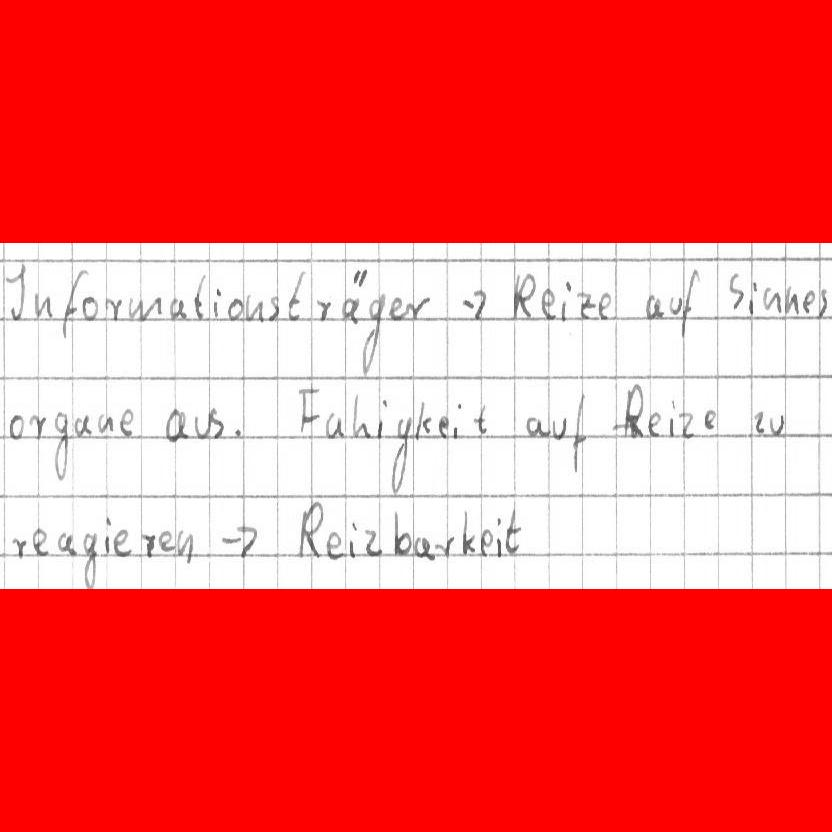Char: (360, 291, 386, 377), (387, 415, 413, 496), (611, 382, 645, 438), (297, 498, 324, 559), (571, 391, 590, 476), (60, 267, 82, 339), (340, 267, 367, 325), (679, 267, 701, 338), (2, 260, 27, 322), (219, 524, 258, 561), (510, 272, 538, 319), (51, 409, 69, 482), (298, 385, 320, 435), (81, 530, 99, 591), (287, 269, 307, 321), (349, 393, 371, 437), (164, 406, 190, 443), (392, 508, 411, 557), (128, 295, 162, 322), (751, 408, 785, 435), (461, 287, 487, 322), (504, 508, 522, 555), (413, 399, 433, 439), (460, 508, 475, 556), (192, 274, 207, 321), (176, 528, 195, 565), (32, 291, 56, 320), (575, 290, 597, 320), (406, 295, 430, 322), (643, 292, 666, 320), (729, 271, 745, 311), (113, 527, 134, 557), (362, 528, 383, 558), (524, 414, 550, 438), (558, 279, 572, 323), (761, 285, 783, 313), (27, 412, 49, 440), (244, 293, 265, 322), (374, 399, 388, 442), (540, 287, 558, 320), (471, 402, 489, 435), (413, 535, 435, 562), (324, 411, 345, 439), (31, 527, 51, 556), (325, 530, 344, 560), (79, 294, 99, 322), (73, 412, 93, 439), (58, 530, 78, 557), (118, 406, 135, 437), (387, 295, 408, 320), (677, 410, 695, 439), (139, 531, 157, 560), (104, 296, 124, 322), (6, 412, 25, 439), (451, 401, 464, 440), (434, 534, 455, 558), (783, 284, 799, 314), (210, 407, 225, 439), (478, 528, 494, 558), (10, 535, 29, 560), (227, 295, 245, 321), (551, 415, 569, 441), (597, 289, 612, 320), (168, 297, 188, 320), (157, 529, 175, 554), (800, 289, 817, 315), (194, 413, 211, 439), (314, 297, 332, 321), (646, 410, 662, 437), (211, 287, 223, 322), (95, 412, 116, 432), (347, 520, 358, 558), (668, 398, 677, 438), (817, 288, 828, 320), (748, 279, 758, 314), (702, 408, 717, 430), (667, 294, 682, 315), (268, 295, 280, 321), (104, 514, 111, 556), (438, 416, 450, 438), (496, 518, 502, 559), (233, 427, 244, 438)
